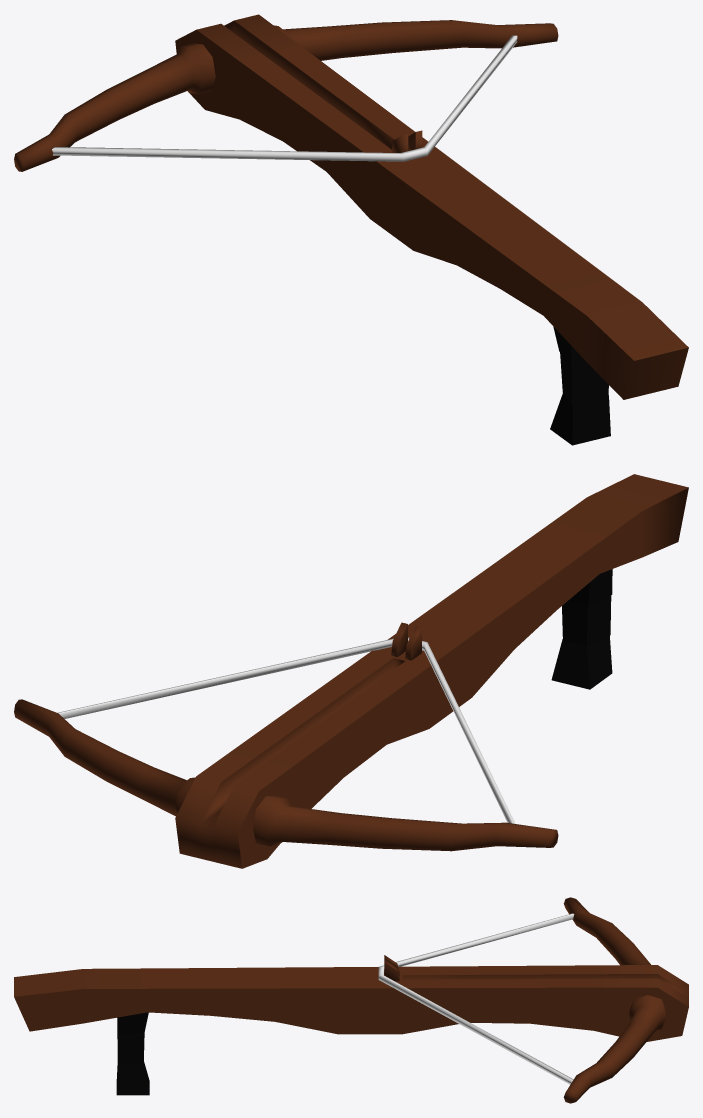
File: Crossbow.fbx
3 renders of one model, top to bottom at view 1: azimuth 30°, elevation 25°; view 2: azimuth 150°, elevation 25°; view 3: azimuth 270°, elevation 25°, orthographic. The views are drawn at different scales.
Visible parts, largest first — view 1: Shaft, Bow, String, Handle; view 2: Shaft, Bow, Handle, String; view 3: Shaft, Bow, String, Handle.
Part boxes in pixels (<box>): Shaft: <box>175,14,688,399</box>; Bow: <box>14,20,558,171</box>; String: <box>52,35,517,161</box>; Handle: <box>550,327,610,445</box>; Shaft: <box>175,474,688,868</box>; Bow: <box>14,699,558,851</box>; Handle: <box>551,569,612,689</box>; String: <box>57,637,515,823</box>; Shaft: <box>14,955,688,1041</box>; Bow: <box>563,897,666,1103</box>; String: <box>378,913,574,1084</box>; Handle: <box>116,1012,149,1095</box>.
Bounding box in the file's own units: 2.49 × 0.7814 × 3.67.
